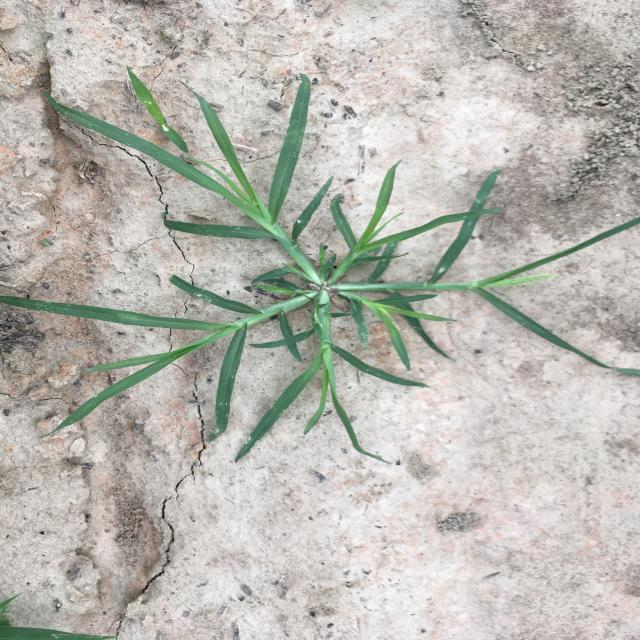Goosegrass: (1, 69, 638, 461)
